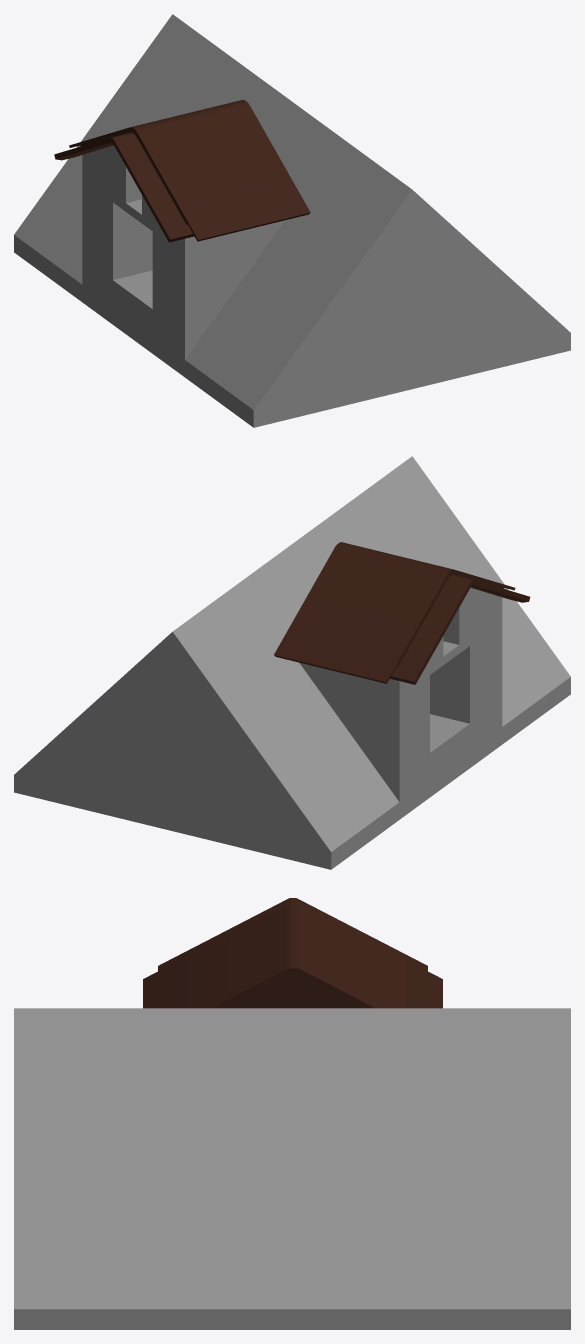
Rendered from Roof2_LOD0.FBX.
The picture shows the model from 3 angles, top to bottom: view 1: azimuth 30°, elevation 25°; view 2: azimuth 150°, elevation 25°; view 3: azimuth 270°, elevation 25°; orthographic projection. The views are drawn at different scales.
Parts seen in each view (by area): view 1: Roof_2_LOD1; view 2: Roof_2_LOD1; view 3: Roof_2_LOD1.
Part boxes in pixels (x1,y1,x2,y2): Roof_2_LOD1: (14,14,570,427); Roof_2_LOD1: (14,456,570,869); Roof_2_LOD1: (14,898,570,1329).
Size of the model in its own units: 194 by 116 by 238.
